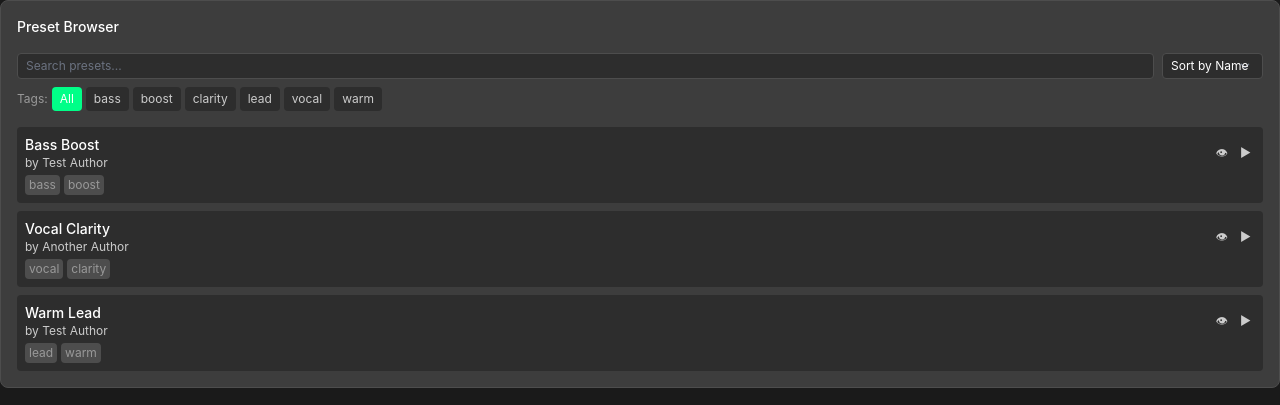
Test: PluginPresetBrowser › should show no presets message when filtered results are empty
Type "nonexistent" into the field with placeholder "Search presets..." at {"x": 586, "y": 66}, box [17, 53, 1154, 79]
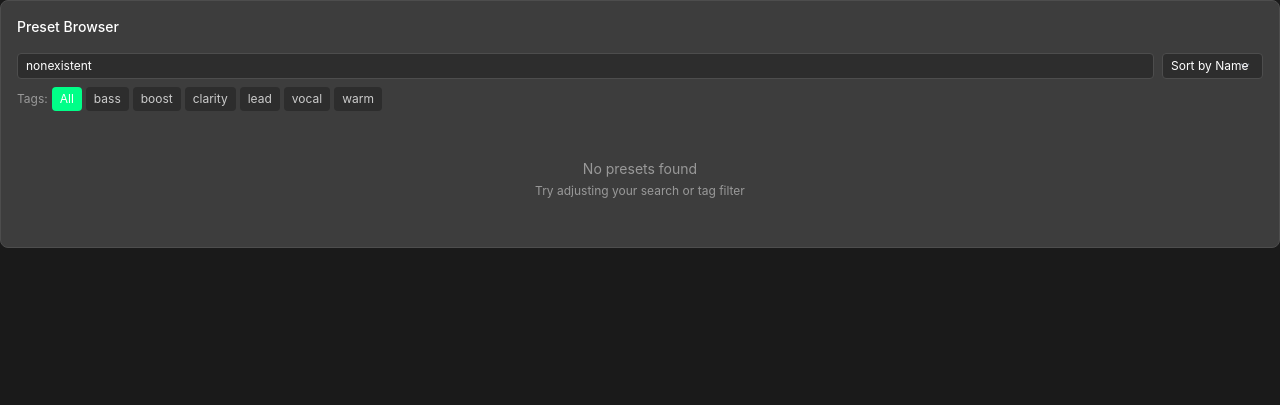
Expected: the text "No presets found" is shown, [583, 160, 697, 177]
Expected: the text "Try adjusting your search or tag filter" is shown, [535, 183, 745, 198]
